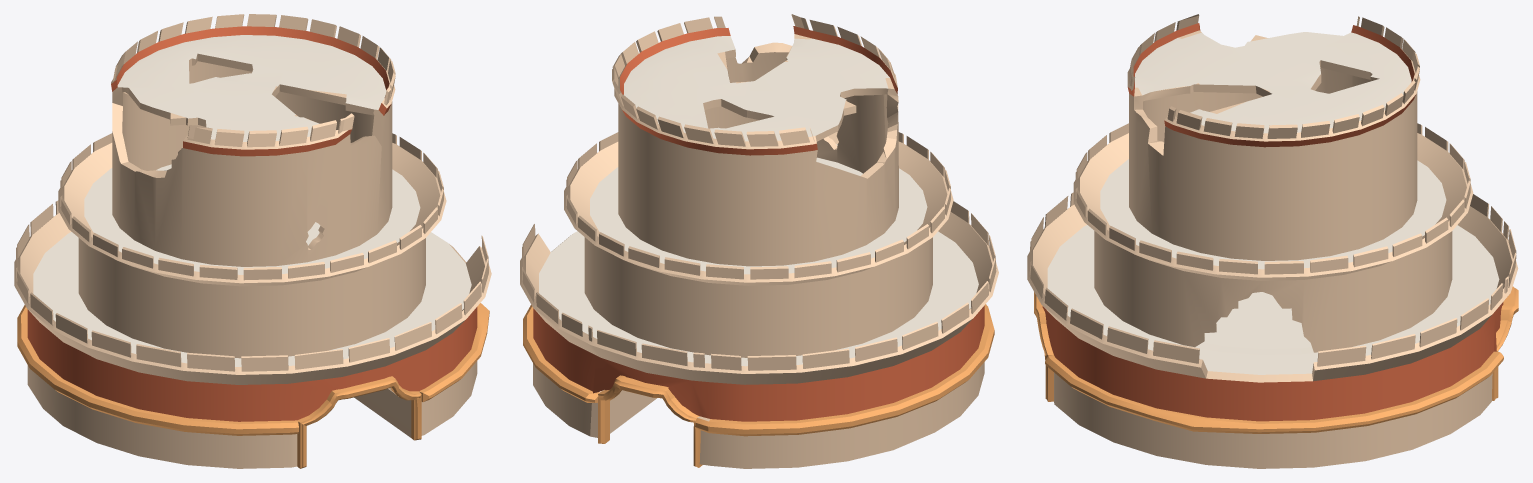
3 views of the same model, side by side, from view 1: azimuth 30°, elevation 25°; view 2: azimuth 150°, elevation 25°; view 3: azimuth 270°, elevation 25° (orthographic). The views are drawn at different scales.
Visible parts, largest first — view 1: Cylinder.006; view 2: Cylinder.006; view 3: Cylinder.006.
Part boxes in pixels (x1,y1,x2,y2): Cylinder.006: (14,14,491,468); Cylinder.006: (520,14,998,468); Cylinder.006: (1027,14,1518,468).
Bounding box in the file's own units: 5467 × 3874 × 5495.
